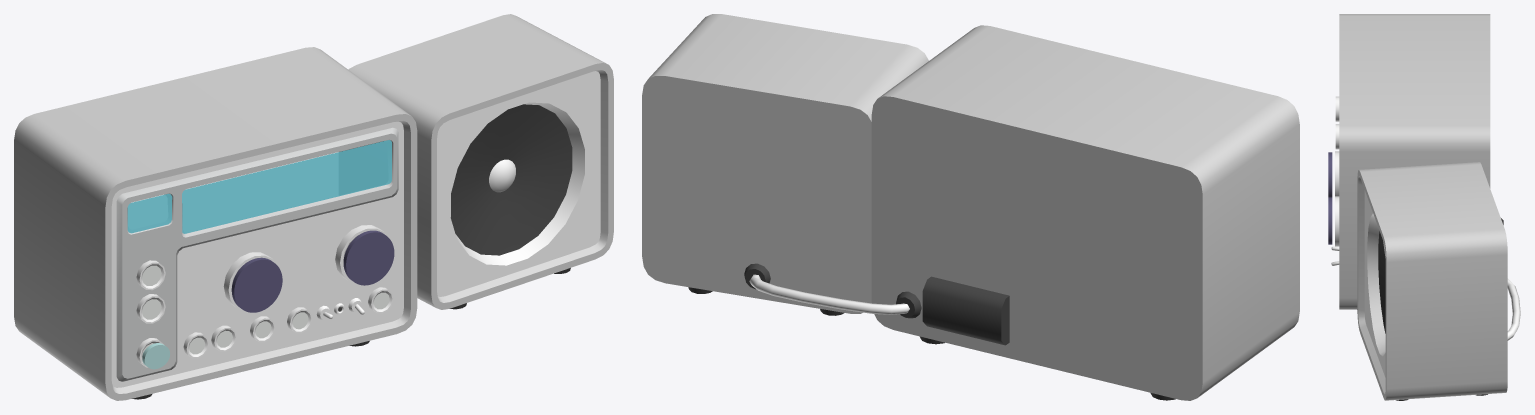
File: radio_scifi.glb
The picture shows the model from 3 angles, left to right: view 1: azimuth 30°, elevation 25°; view 2: azimuth 150°, elevation 25°; view 3: azimuth 270°, elevation 25°; orthographic projection. The views are drawn at different scales.
Visible parts, largest first — view 1: radio_00_02_-_Default_4, radio_00_09_-_Default_6, radio_00_08_-_Default_5, radio_00_03_-_Default_3, radio_neondisplay_big, radio_00_04_-_Default_1, radio_button_playNext, radio_button_playPrevious, radio_00_05_-_Default_2, radio_neondisplay_small, radio_00_11_-_Default_7, radio_button_onOff; view 2: radio_00_02_-_Default_4, radio_00_03_-_Default_3, radio_00_04_-_Default_1; view 3: radio_00_02_-_Default_4, radio_00_09_-_Default_6, radio_00_04_-_Default_1, radio_00_03_-_Default_3, radio_button_playNext, radio_button_playPrevious.
Part boxes in pixels (x1,y1,x2,y2): radio_00_02_-_Default_4: [14, 14, 613, 400]; radio_00_09_-_Default_6: [111, 71, 600, 387]; radio_00_08_-_Default_5: [116, 127, 398, 381]; radio_00_03_-_Default_3: [132, 104, 572, 399]; radio_neondisplay_big: [182, 140, 391, 233]; radio_00_04_-_Default_1: [136, 225, 393, 367]; radio_button_playNext: [343, 230, 394, 285]; radio_button_playPrevious: [231, 257, 282, 312]; radio_00_05_-_Default_2: [142, 265, 389, 355]; radio_neondisplay_small: [127, 193, 172, 233]; radio_00_11_-_Default_7: [489, 159, 515, 192]; radio_button_onOff: [142, 343, 169, 369]; radio_00_02_-_Default_4: [642, 14, 1299, 400]; radio_00_03_-_Default_3: [688, 263, 1175, 400]; radio_00_04_-_Default_1: [749, 274, 909, 314]; radio_00_02_-_Default_4: [1339, 14, 1507, 400]; radio_00_09_-_Default_6: [1364, 190, 1385, 377]; radio_00_04_-_Default_1: [1335, 96, 1520, 340]; radio_00_03_-_Default_3: [1378, 218, 1503, 400]; radio_button_playNext: [1328, 197, 1332, 244]; radio_button_playPrevious: [1328, 152, 1332, 197].
Bounding box in the file's own units: 2.44 × 1 × 0.9158.
